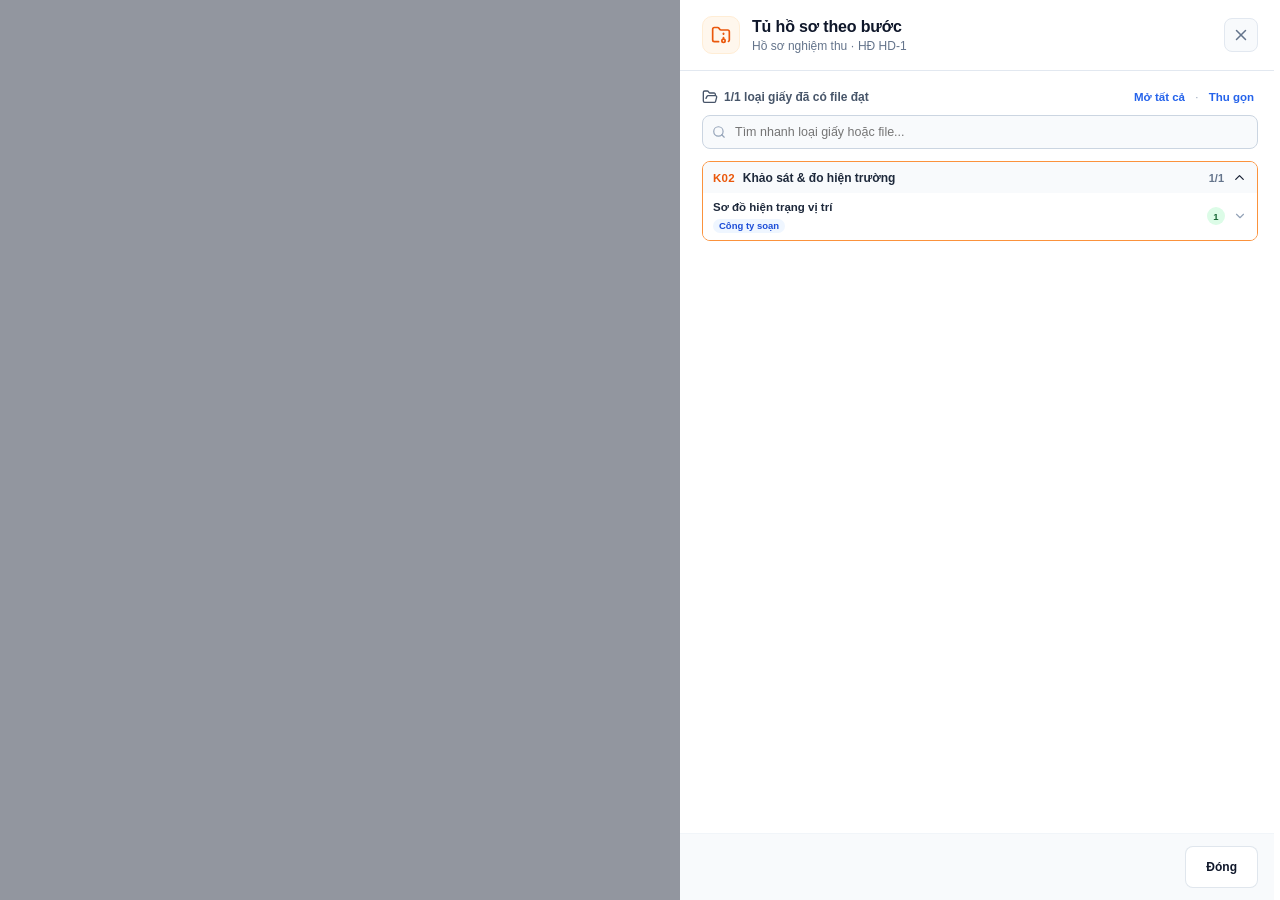
Test case: PriorDocumentsDrawer dùng tủ hồ sơ chuẩn › bỏ danh sách file phẳng và hiển thị Node → loại giấy → file đạt
The image size is (1280, 900).
Check: the text "Sơ đồ hiện trạng vị trí" is shown, box [713,201,832,213]
Click the button "Sơ đồ hiện trạng vị trí Công ty soạn 1" at (773, 207), box [703,193,1257,240]
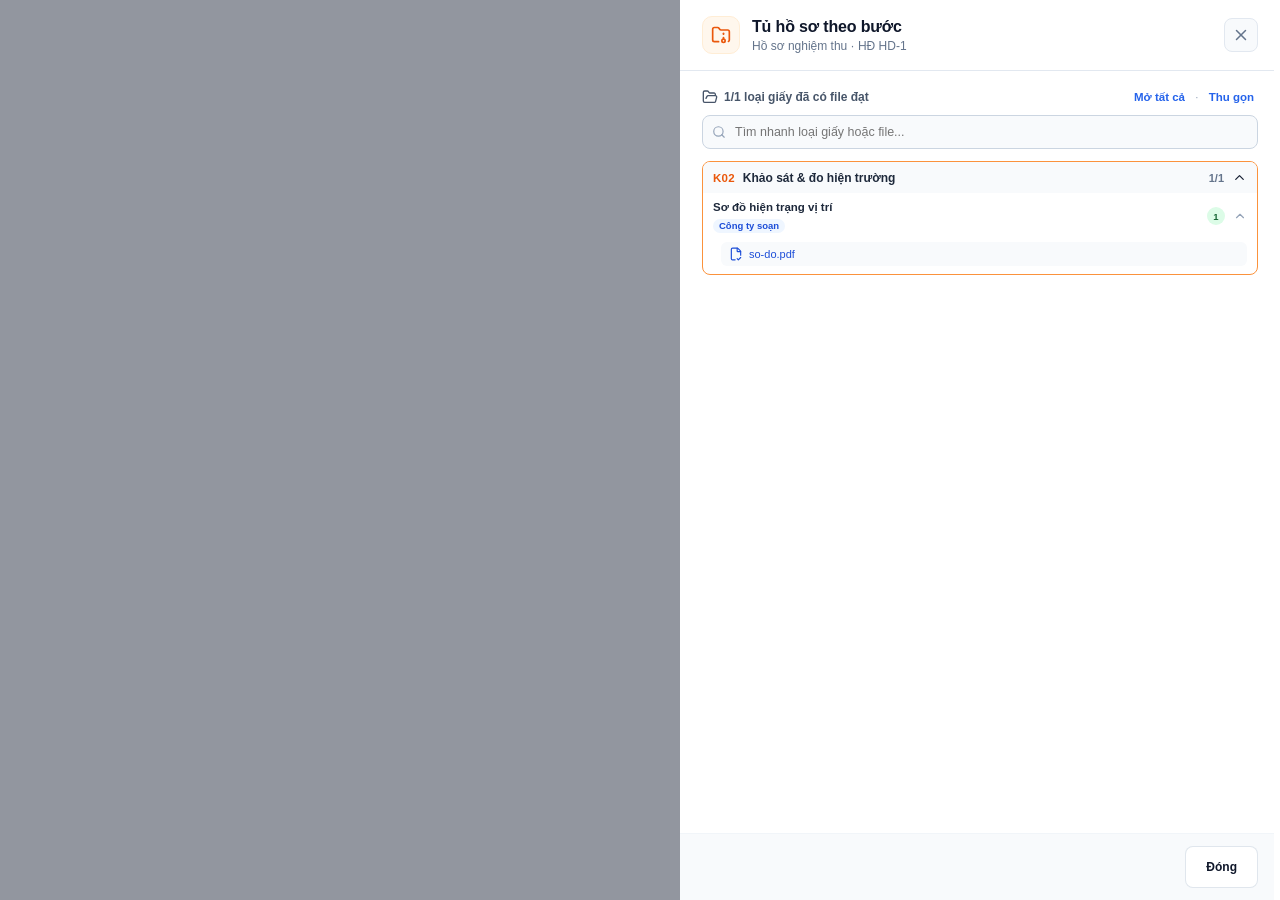
Check: the button "so-do.pdf" is shown, box [721,242,1247,266]
